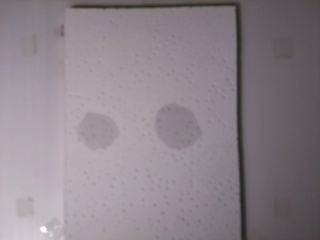Water_detected: (156, 106, 195, 142), (78, 121, 114, 145)
